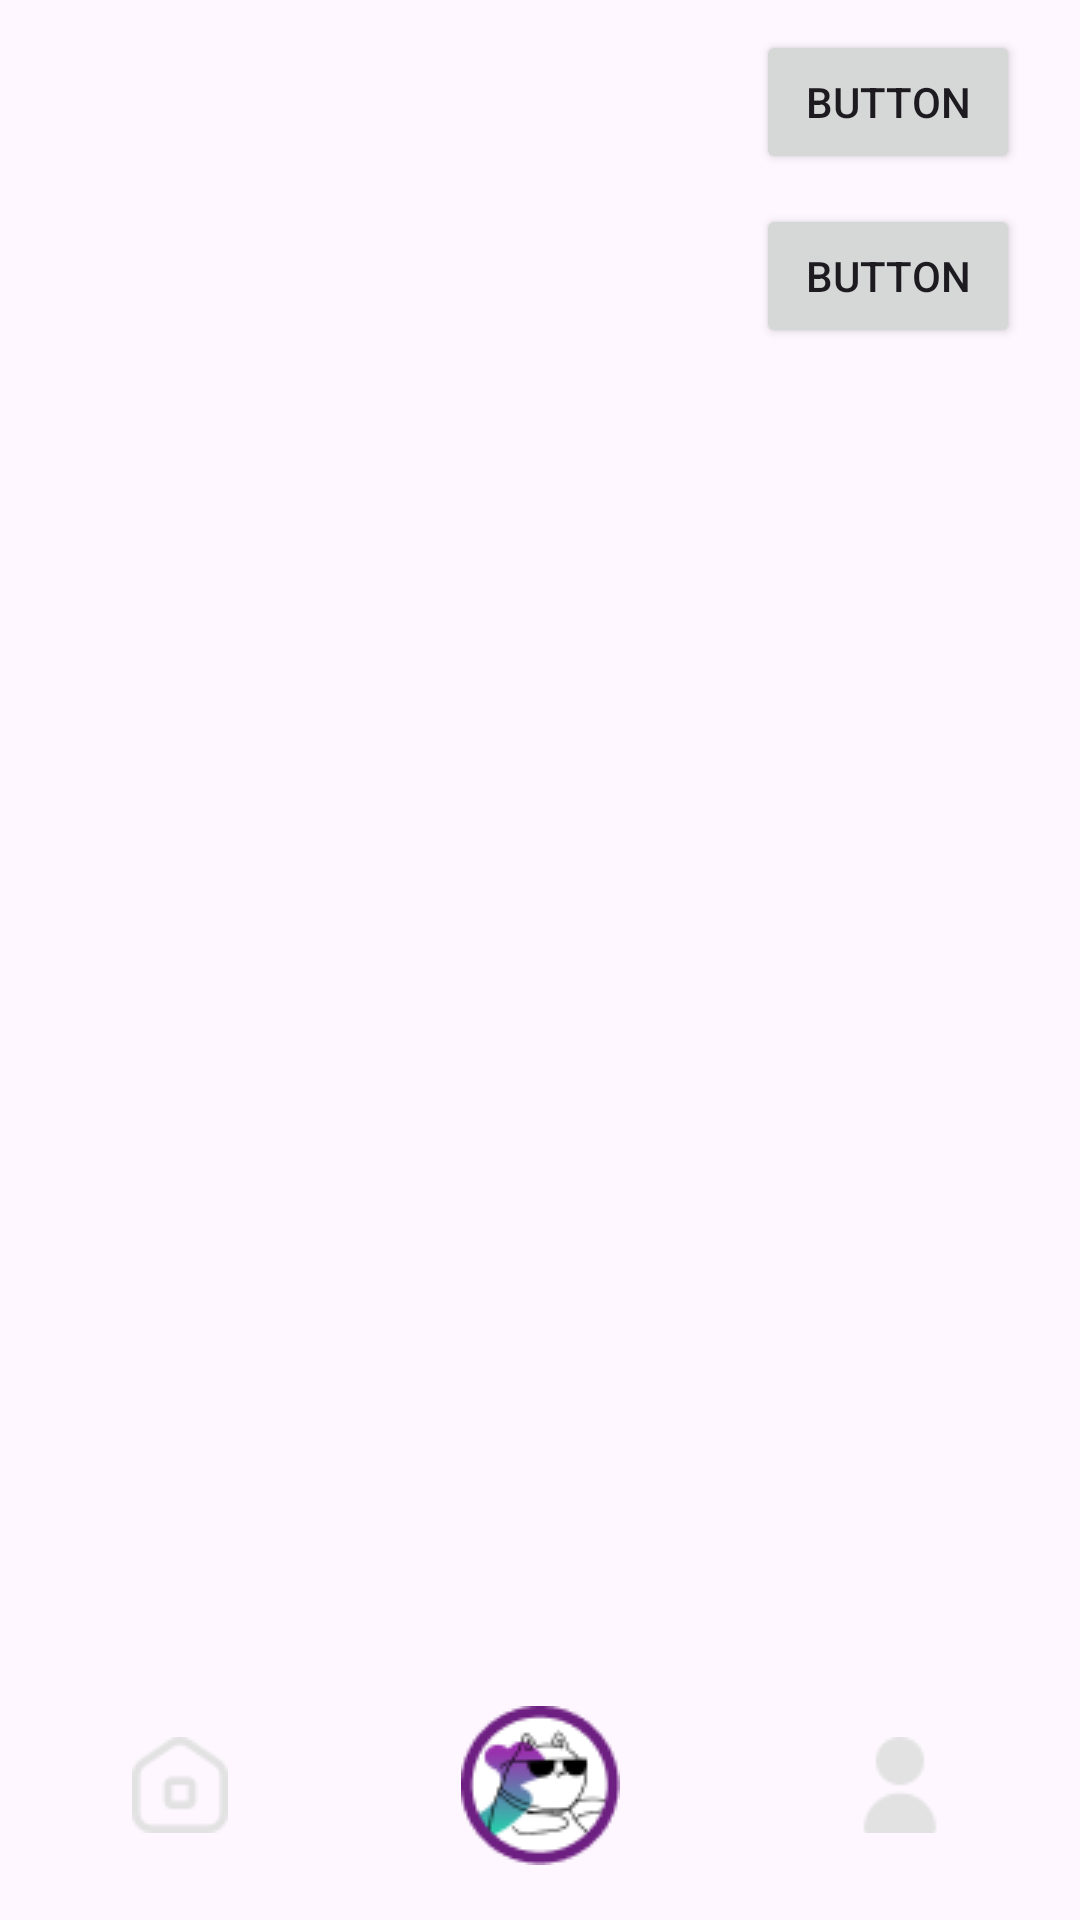

Locate icon controls on the screen. Image size 1080×1920, boxes as (x1, y1, x2, y2).
Home Button: (132, 1737, 228, 1833)
